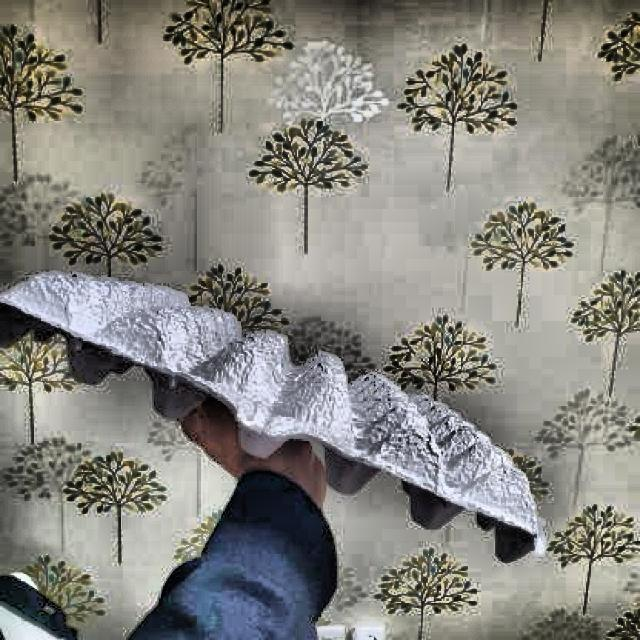Cardbox: (6, 228, 582, 583)
